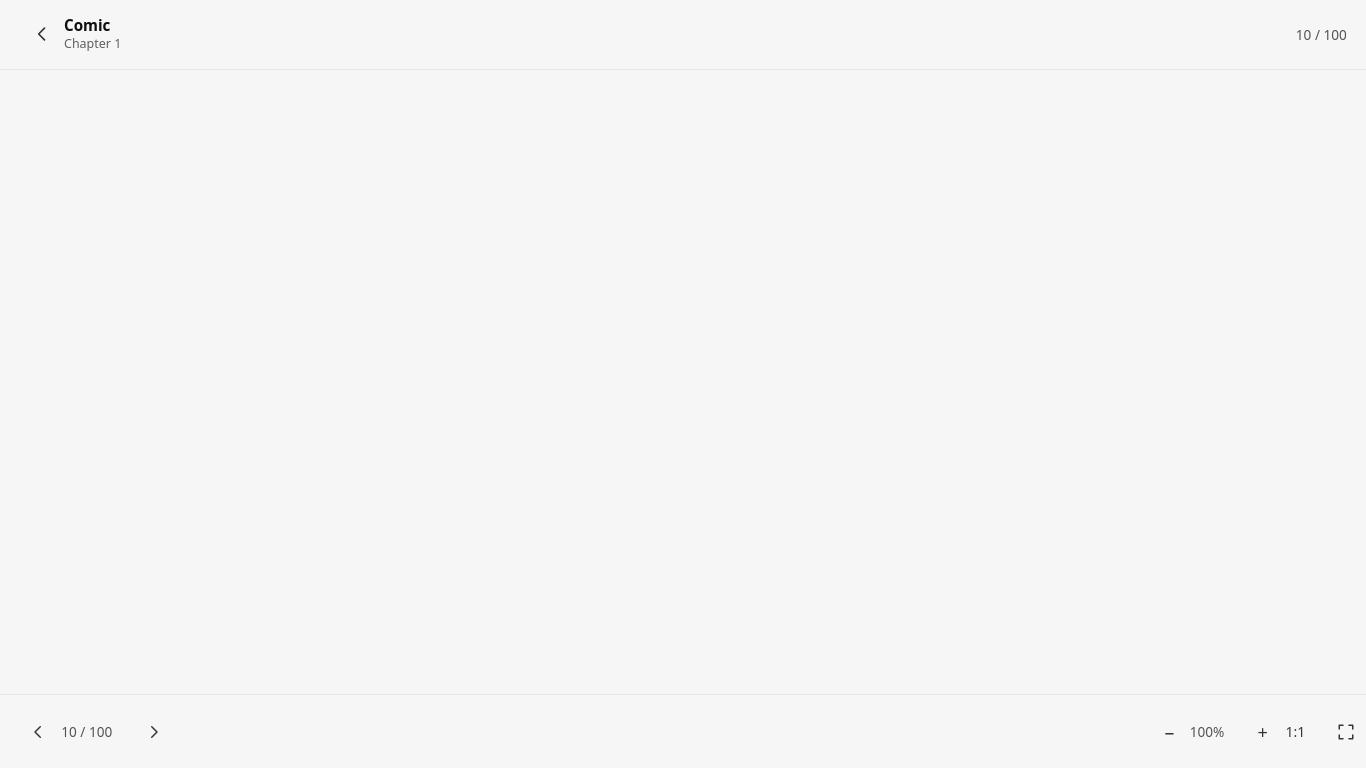
Test: ReaderChrome page jump › opens an input prefilled with the current page
Click the button with class "reader-page-jump__button" in the row of "Chapter 1".
click(1321, 34)  # box [1289,18,1354,50]
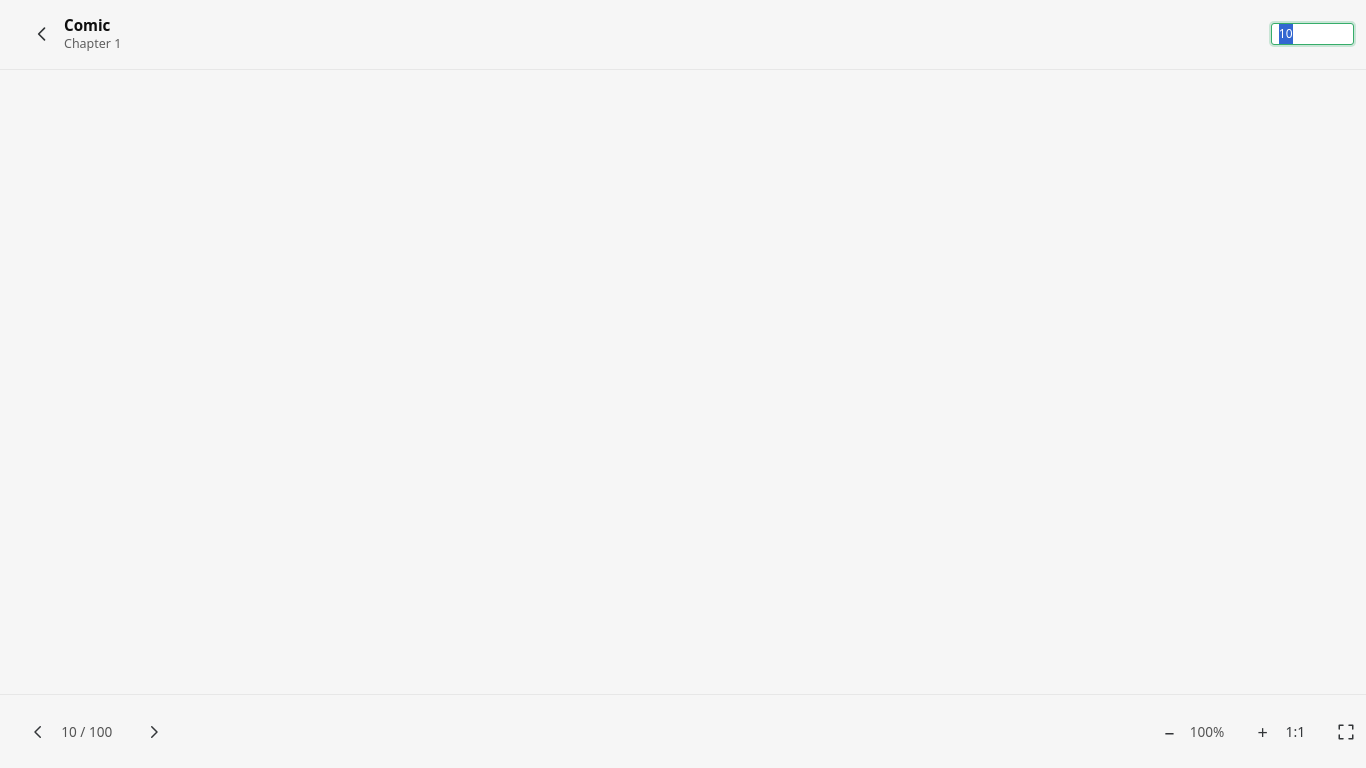
Expected: the field named "Go to page" holds "10", [1279,23,1346,45]
